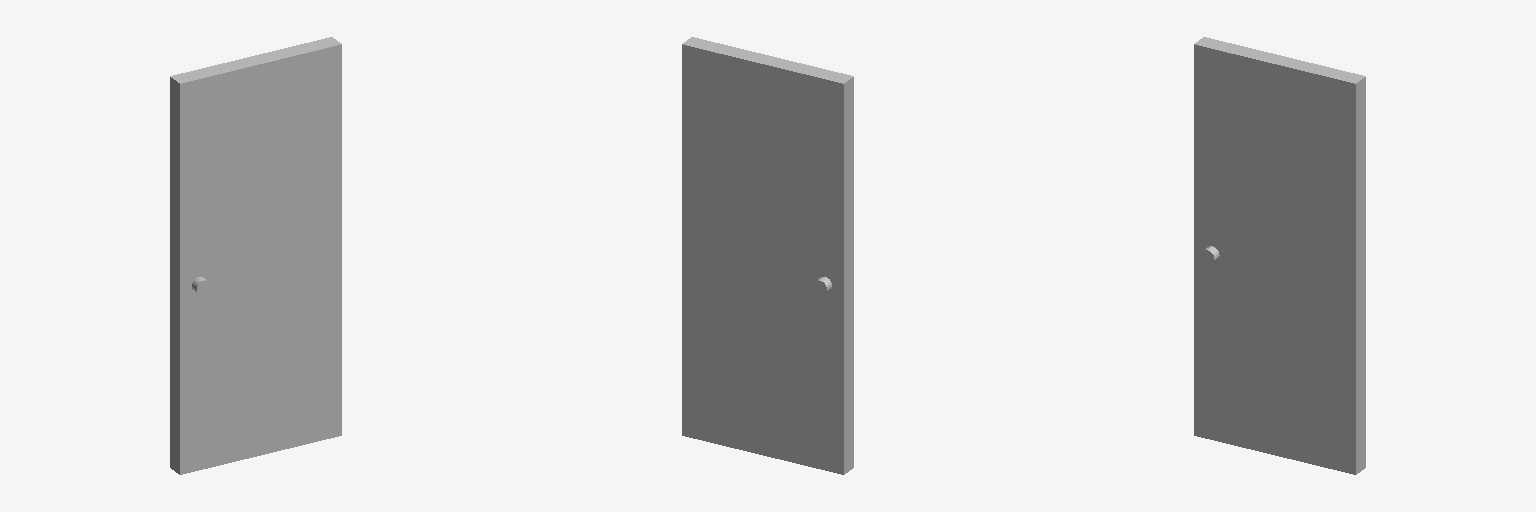
The model's file is Door3.obj.
The picture shows the model from 3 angles: view 1: azimuth 30°, elevation 25°; view 2: azimuth 150°, elevation 25°; view 3: azimuth 330°, elevation 25°; orthographic projection.
Parts seen in each view (by area): view 1: DWPR_005_3; view 2: DWPR_005_3; view 3: DWPR_005_3.
Part boxes in pixels (bbox=[...]): DWPR_005_3: bbox=[170, 37, 341, 474]; DWPR_005_3: bbox=[682, 37, 853, 474]; DWPR_005_3: bbox=[1194, 37, 1365, 474].
Bounding box in the file's own units: 9.1 × 21 × 2.